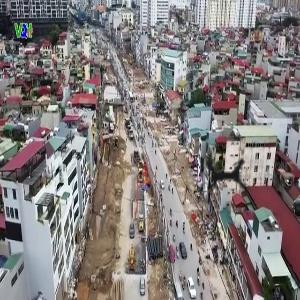drone: (174, 125, 275, 226)
